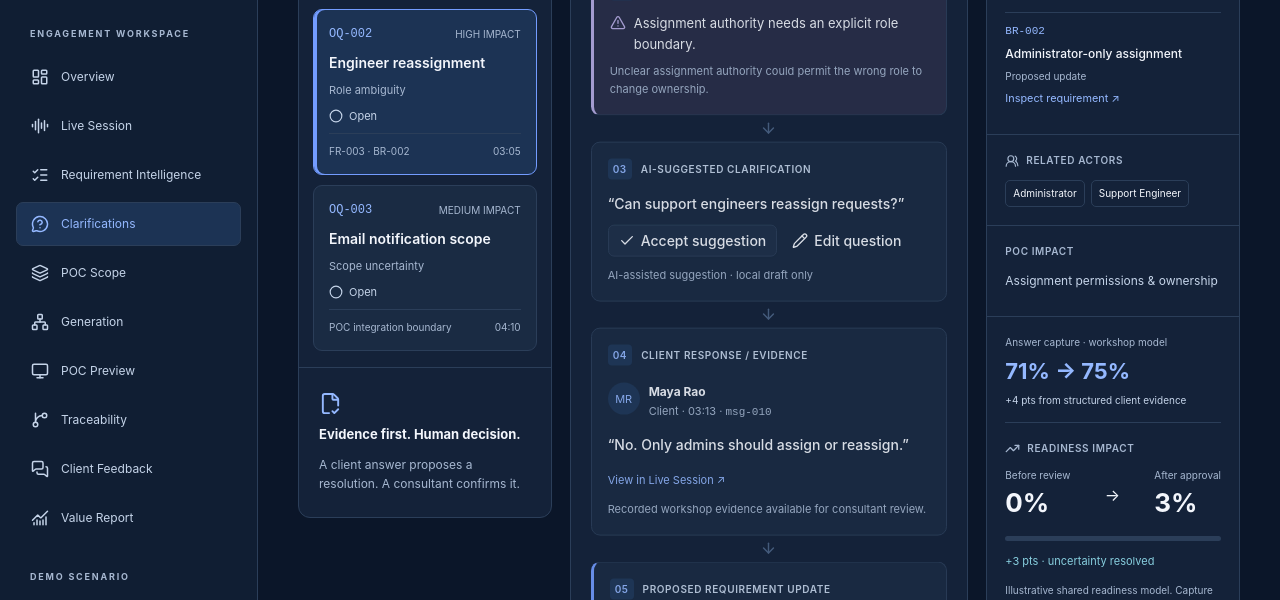
Test: Clarification Center › selects from deep links and keyboard-accessible queue, preserving the URL
(page scrolled)
Check: the element "Resolution workspace" shows "Can support engineers reassign requests?", box x1=614 y1=194 x2=898 y2=211
Click the button "OQ-003" at (425, 268), box x1=313 y1=185 x2=537 y2=351
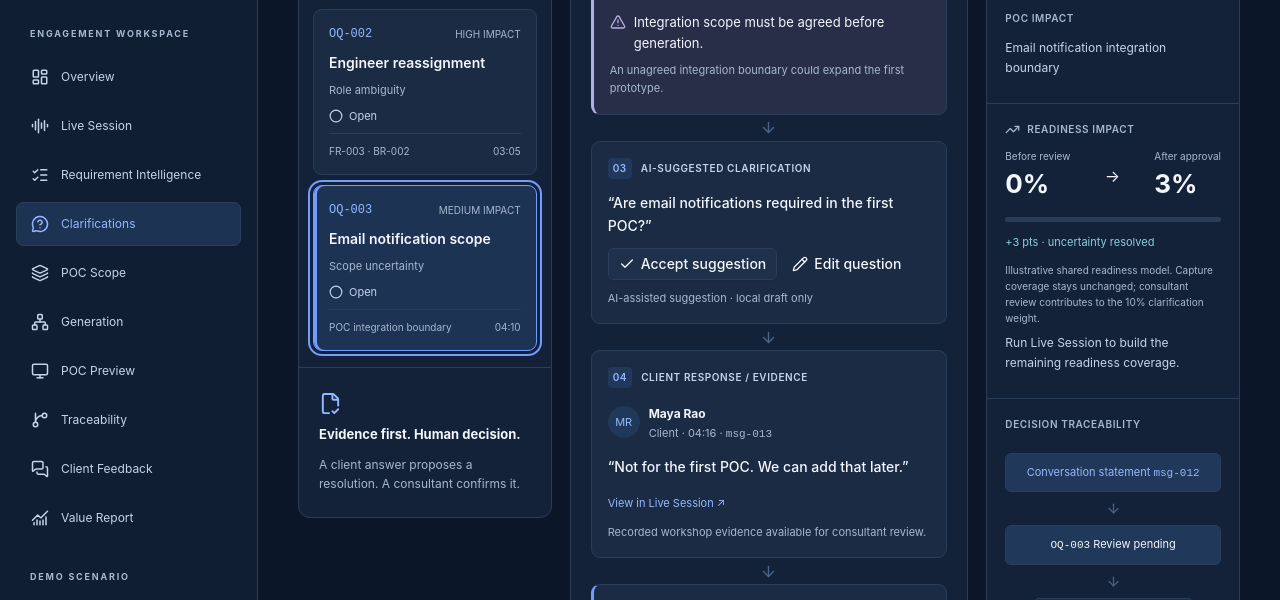
Check: the element "Resolution workspace" shows "Not for the first POC. We can add that later.", box x1=614 y1=458 x2=902 y2=476
